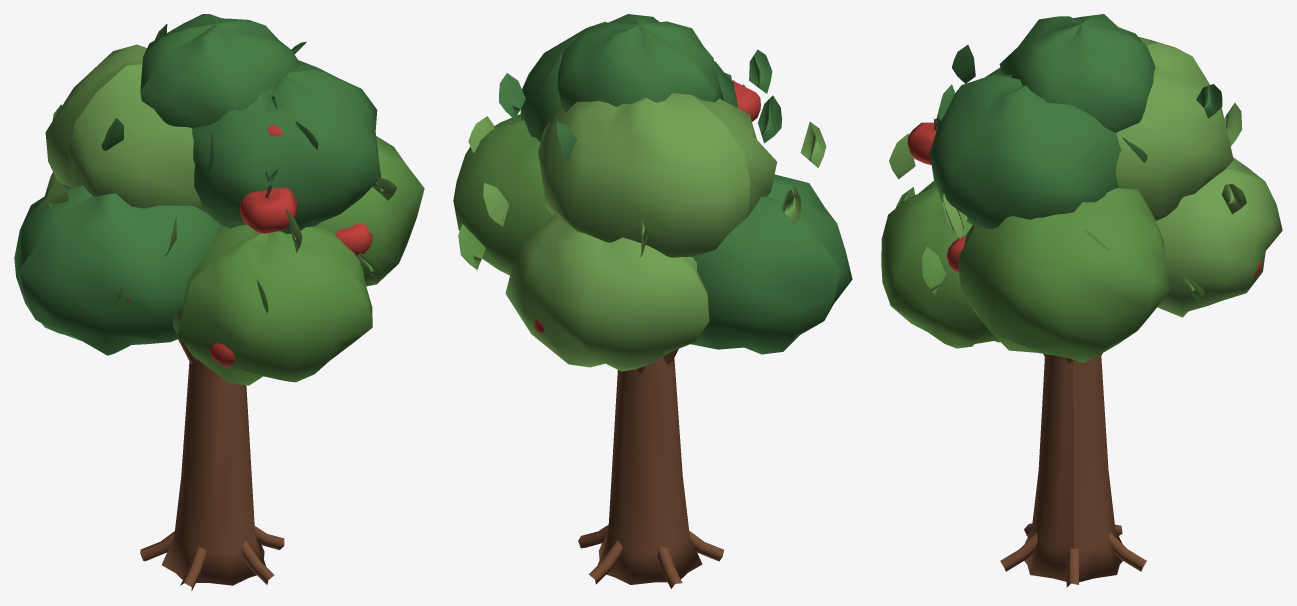
Rendered from manzano_lod.glb.
3 views of the same model, side by side, from view 1: azimuth 30°, elevation 25°; view 2: azimuth 150°, elevation 25°; view 3: azimuth 270°, elevation 25° (orthographic).
Parts seen in each view (by area): view 1: manzano_copa_viento_0, manzano; view 2: manzano_copa_viento_0, manzano; view 3: manzano_copa_viento_0, manzano.
Boxes of the visible parts, box(x1,y1,x2,y2) form: manzano_copa_viento_0: box(14, 14, 424, 385); manzano: box(140, 338, 284, 590); manzano_copa_viento_0: box(453, 14, 852, 371); manzano: box(578, 349, 723, 588); manzano_copa_viento_0: box(881, 14, 1282, 362); manzano: box(1000, 353, 1146, 587).
Size of the model in its own units: 1.76 by 2.35 by 1.58.
